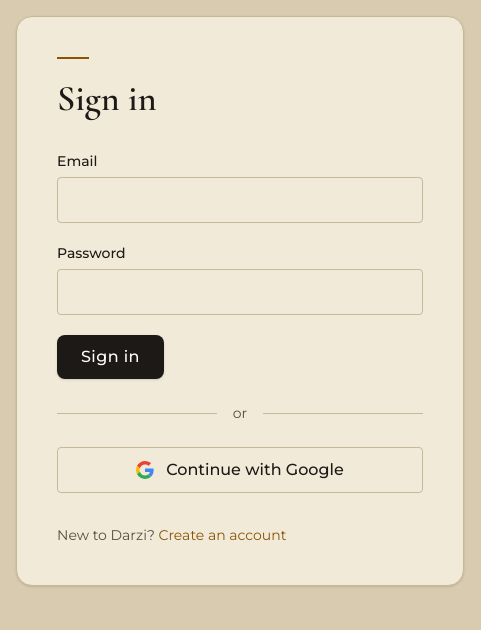
Test case: LoginPage › rejects malformed emails
The width and height of the screenshot is (481, 630).
Type "not-an-email" into the field labelled "Email" at (240, 200), box left=57, top=177, right=423, bottom=223
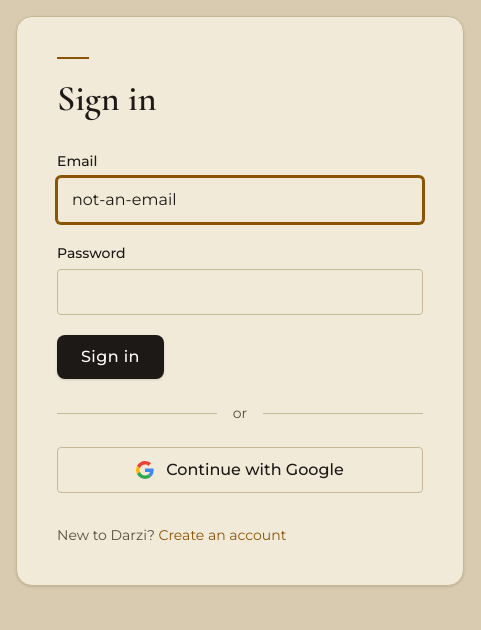
Type "password123" into the password field labelled "Password" at (240, 292), box left=57, top=269, right=423, bottom=315
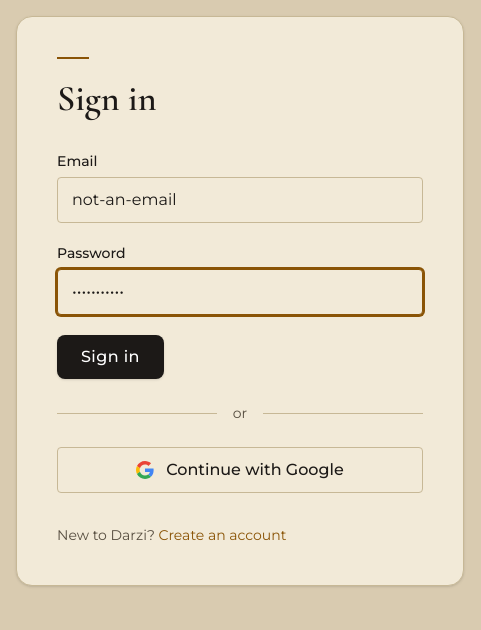
Click the button "Sign in" at (110, 357), box left=57, top=335, right=164, bottom=379
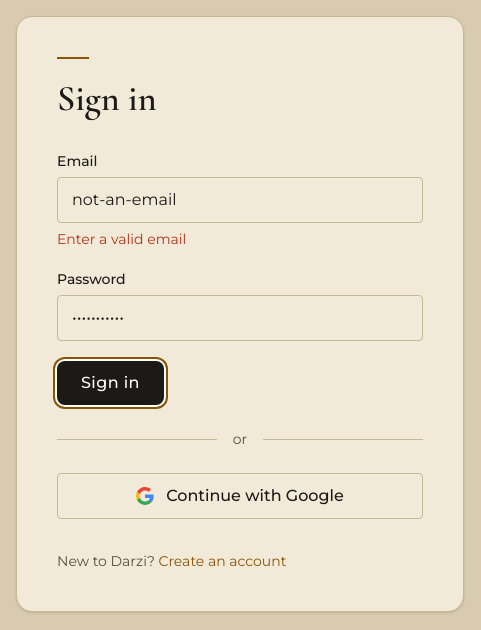
Result: the text "Enter a valid email" is shown at left=57, top=230, right=186, bottom=248
